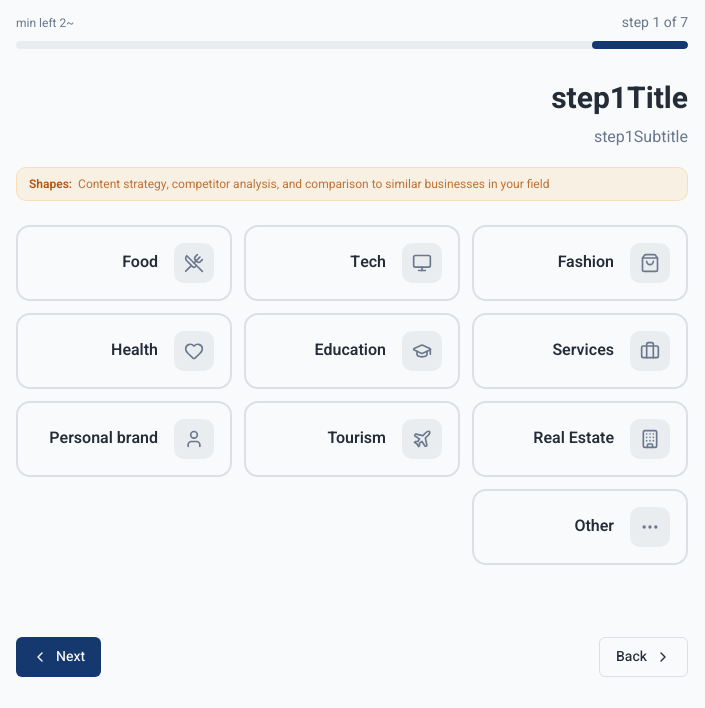
Test case: MultiStepForm — inline validation error surface › shows the bilingual reason when Next is clicked on an empty step
What coordinates should you click on to do the following:
click the button "Next"
I would click on:
 (59, 657)
Its box is [16,637,101,677].
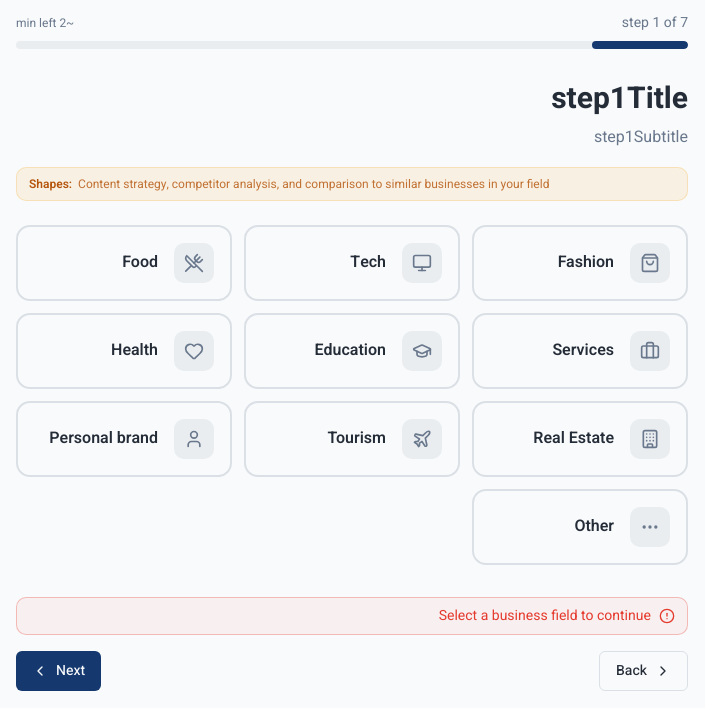
Expected: the message "Select a business field to continue" is shown, [16,597,688,635]
